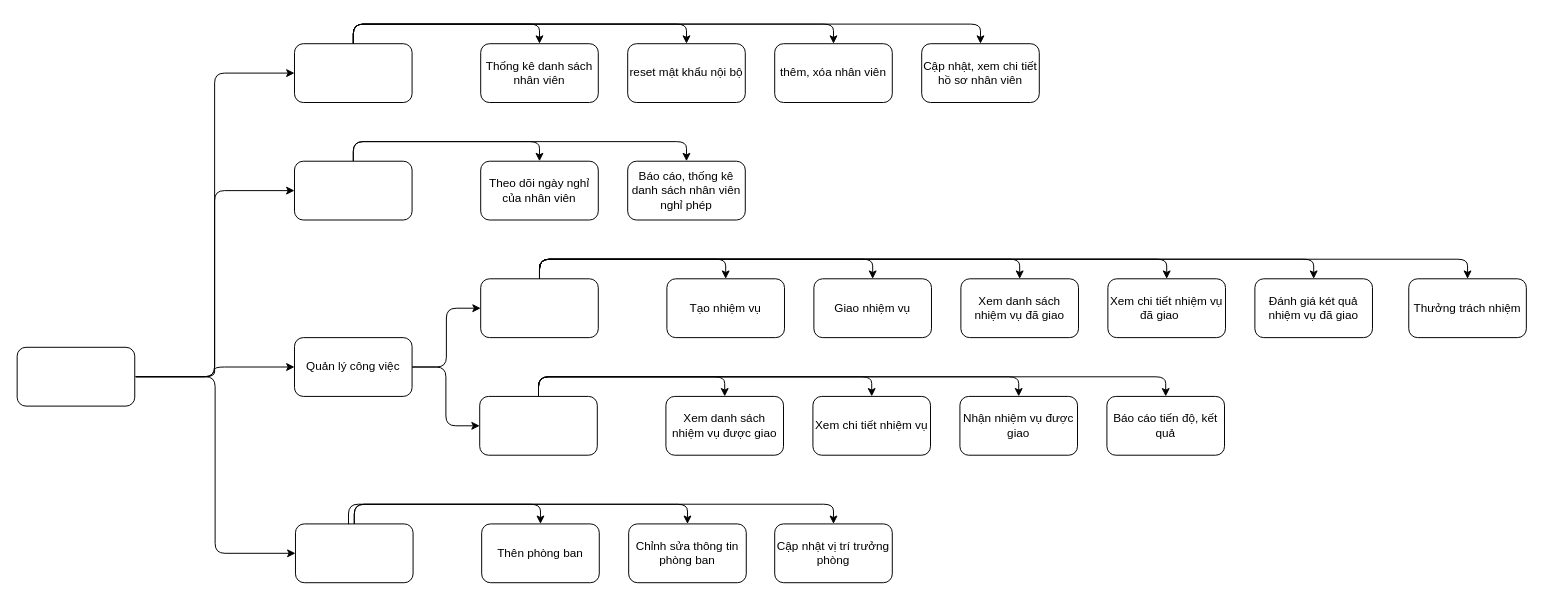
The diagram is 1544 pixels wide and 600 high, and some of its shapes have lost their labels. The shapes that lost their labels are listed below. From the top down, each one's box as (x1, y1, x2, y2) in pixels, then its label:
(294, 43, 412, 103): Quản lý nhân viên
(294, 160, 412, 220): Quản lý nghỉ phép
(480, 278, 598, 338): Quản lý nhiệm vụ (Trưởng phòng)
(16, 346, 135, 406): Hệ thống nội bộ
(479, 395, 597, 455): Quản lý nhiệm vụ (Nhân viên)
(294, 523, 413, 583): Quản lý phòng ban
